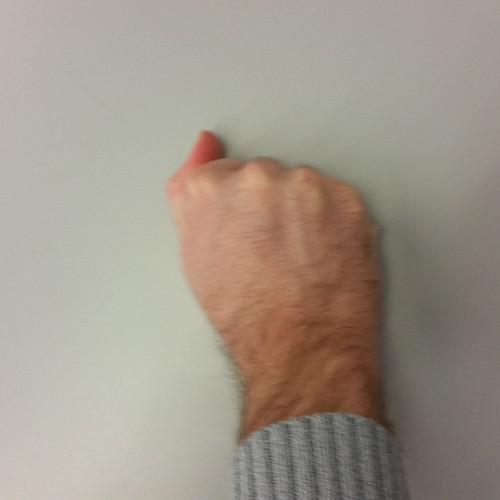rock: (146, 124, 392, 372)
